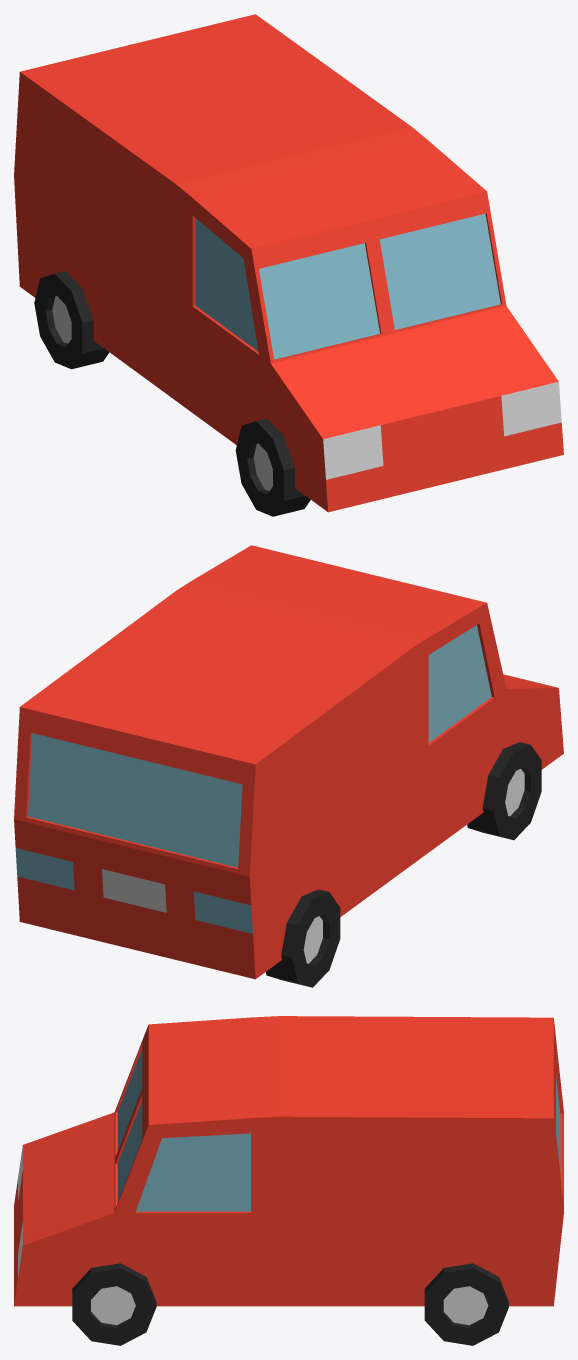
File: post-truck.fbx
3 views of the same model, one above another, from view 1: azimuth 30°, elevation 25°; view 2: azimuth 150°, elevation 25°; view 3: azimuth 270°, elevation 25° (orthographic). The views are drawn at different scales.
Parts seen in each view (by area): view 1: van2; view 2: van2; view 3: van2.
Part boxes in pixels (x1,y1,x2,y2): van2: [14, 14, 563, 516]; van2: [14, 545, 563, 987]; van2: [14, 1016, 563, 1345].
Size of the model in its own units: 226 by 214 by 476.
